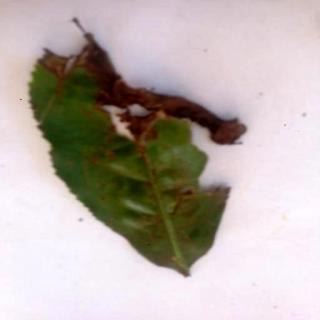Brown Blight: (32, 19, 248, 279)
